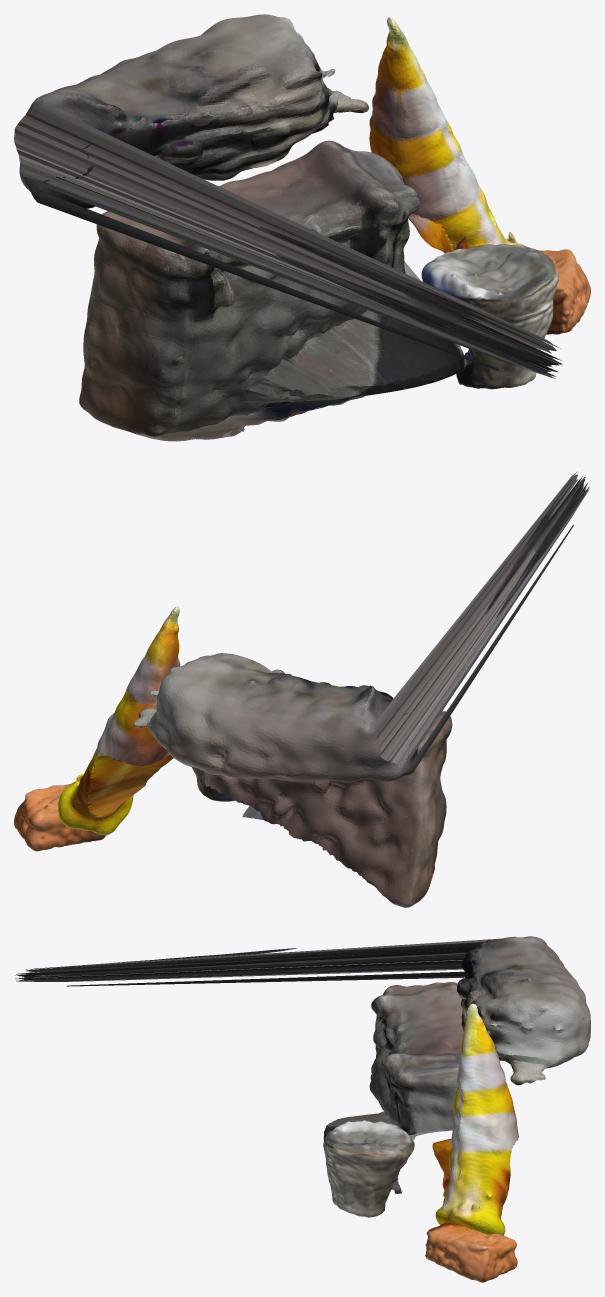
The model's file is gen3dsr_no_bg.glb.
3 renders of one model, top to bottom at view 1: azimuth 30°, elevation 25°; view 2: azimuth 150°, elevation 25°; view 3: azimuth 270°, elevation 25°, orthographic. The views are drawn at different scales.
Parts seen in each view (by area): view 1: 4.obj, 3.obj, 0.obj, 2.obj, 1.obj; view 2: 4.obj, 3.obj, 0.obj, 1.obj; view 3: 4.obj, 3.obj, 0.obj, 2.obj, 1.obj.
Part boxes in pixels (x1,y1,x2,y2): 4.obj: (14, 14, 562, 378); 3.obj: (79, 140, 467, 441); 0.obj: (369, 17, 524, 253); 2.obj: (421, 244, 559, 389); 1.obj: (539, 249, 590, 334); 4.obj: (133, 471, 589, 782); 3.obj: (199, 669, 452, 907); 0.obj: (58, 606, 180, 835); 1.obj: (14, 784, 105, 851); 4.obj: (14, 936, 590, 1085); 3.obj: (323, 982, 463, 1193); 0.obj: (432, 1003, 518, 1235); 2.obj: (323, 1120, 414, 1217); 1.obj: (425, 1222, 517, 1282).
Bounding box in the file's own units: 0.5311 × 0.3196 × 0.7654.
Materials: 5 (5 with a texture image).
